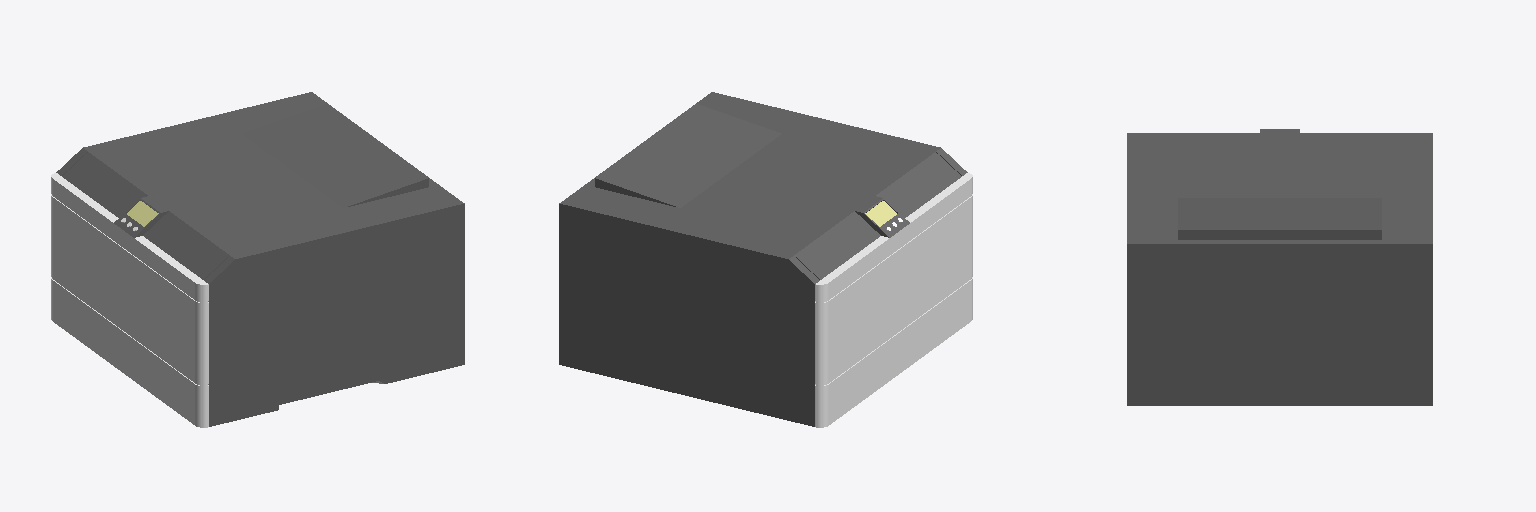
Rendered from Drucker.obj.
3 views of the same model, side by side, from view 1: azimuth 30°, elevation 25°; view 2: azimuth 150°, elevation 25°; view 3: azimuth 270°, elevation 25° (orthographic).
Visible parts, largest first — view 1: Mesh1 Component_273_1 Printer1 Model; view 2: Mesh1 Component_273_1 Printer1 Model; view 3: Mesh1 Component_273_1 Printer1 Model.
Boxes of the visible parts, x1=… form: Mesh1 Component_273_1 Printer1 Model: x1=51, y1=92, x2=464, y2=427; Mesh1 Component_273_1 Printer1 Model: x1=559, y1=92, x2=972, y2=427; Mesh1 Component_273_1 Printer1 Model: x1=1127, y1=129, x2=1432, y2=405.
Size of the model in its own units: 0.6 by 0.37 by 0.6.